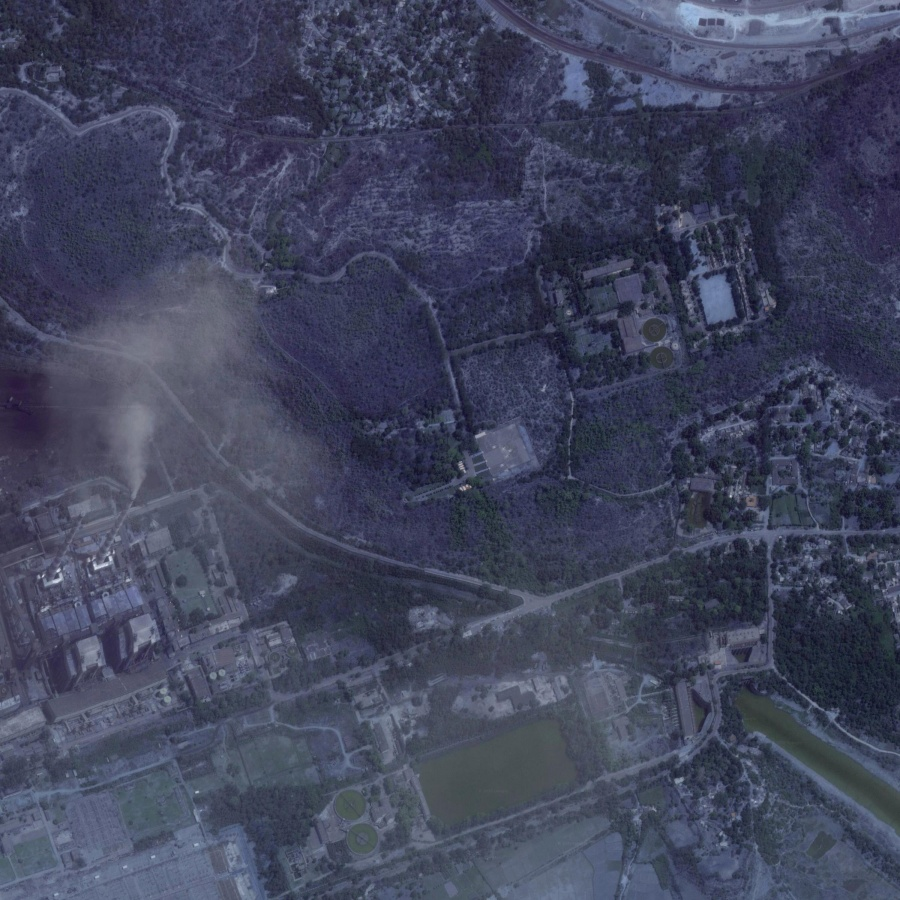PowerPlant: (404, 697, 586, 845)
